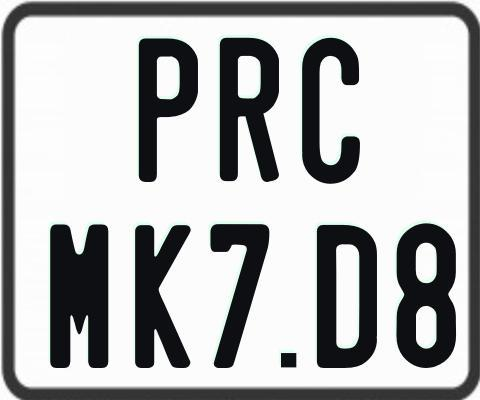7: (209, 222, 271, 372)
8: (394, 223, 460, 371)
C: (300, 35, 363, 182)
D: (314, 224, 380, 370)
K: (133, 222, 193, 367)
M: (48, 224, 109, 372)
P: (139, 36, 200, 185)
R: (218, 35, 281, 182)
